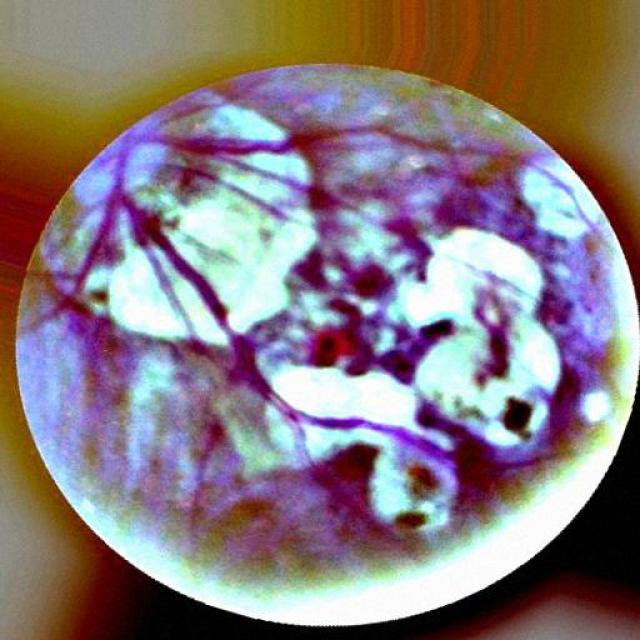Macula: (302, 327, 378, 380)
Nerves: (140, 221, 318, 425), (22, 129, 139, 332), (138, 123, 388, 152)
Optic Disk: (43, 96, 304, 339)
